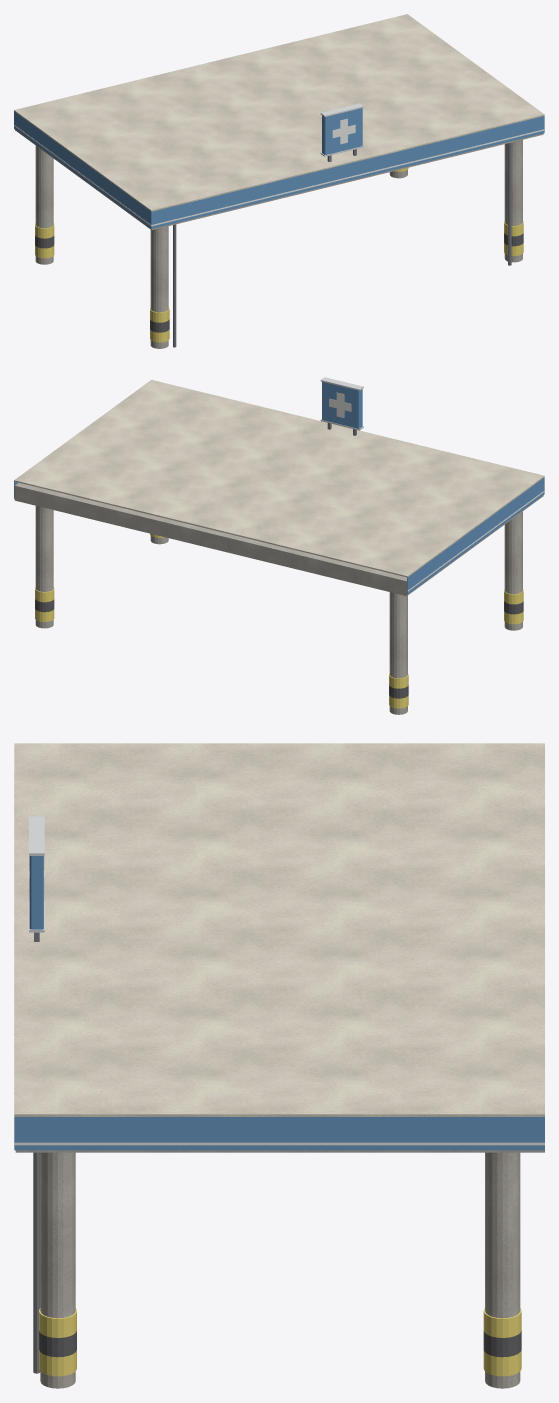
File: canopy_amb.glb
3 views of the same model, one above another, from view 1: azimuth 30°, elevation 25°; view 2: azimuth 150°, elevation 25°; view 3: azimuth 270°, elevation 25° (orthographic). The views are drawn at different scales.
Parts seen in each view (by area): view 1: canopy_amb_coping, canopy_amb_blue, canopy_amb_concrete, canopy_amb_paint_w, canopy_amb_paint_y, canopy_amb_steel_d, canopy_amb_dark; view 2: canopy_amb_coping, canopy_amb_concrete, canopy_amb_blue, canopy_amb_paint_y, canopy_amb_dark, canopy_amb_paint_w; view 3: canopy_amb_coping, canopy_amb_blue, canopy_amb_concrete, canopy_amb_paint_y, canopy_amb_paint_w, canopy_amb_steel_d, canopy_amb_dark, canopy_amb_alu.
Boxes of the visible parts, x1,y1,x2,y2 form: canopy_amb_coping: [14, 14, 544, 211]; canopy_amb_blue: [14, 108, 544, 228]; canopy_amb_concrete: [14, 129, 543, 348]; canopy_amb_paint_w: [14, 118, 544, 226]; canopy_amb_paint_y: [35, 167, 523, 342]; canopy_amb_steel_d: [173, 142, 511, 347]; canopy_amb_dark: [35, 233, 523, 332]; canopy_amb_coping: [14, 380, 544, 577]; canopy_amb_concrete: [14, 483, 543, 714]; canopy_amb_blue: [14, 382, 544, 594]; canopy_amb_paint_y: [35, 533, 523, 708]; canopy_amb_dark: [35, 599, 523, 698]; canopy_amb_paint_w: [329, 392, 544, 591]; canopy_amb_coping: [14, 743, 544, 1116]; canopy_amb_blue: [14, 856, 544, 1150]; canopy_amb_concrete: [15, 1150, 544, 1388]; canopy_amb_paint_y: [39, 1308, 521, 1376]; canopy_amb_paint_w: [14, 771, 544, 1145]; canopy_amb_steel_d: [33, 932, 40, 1373]; canopy_amb_dark: [39, 1330, 521, 1357]; canopy_amb_alu: [29, 816, 44, 932].
Size of the model in its own units: 12.45 by 5.93 by 7.52.
Materials: 10 (2 with a texture image).
